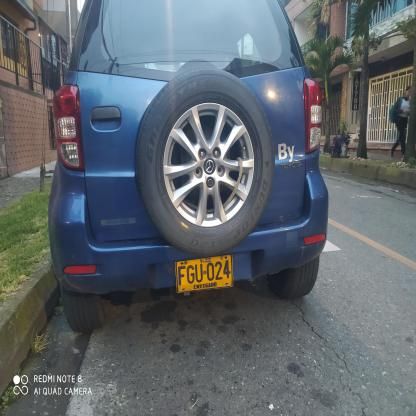placa: (169, 252, 237, 298)
